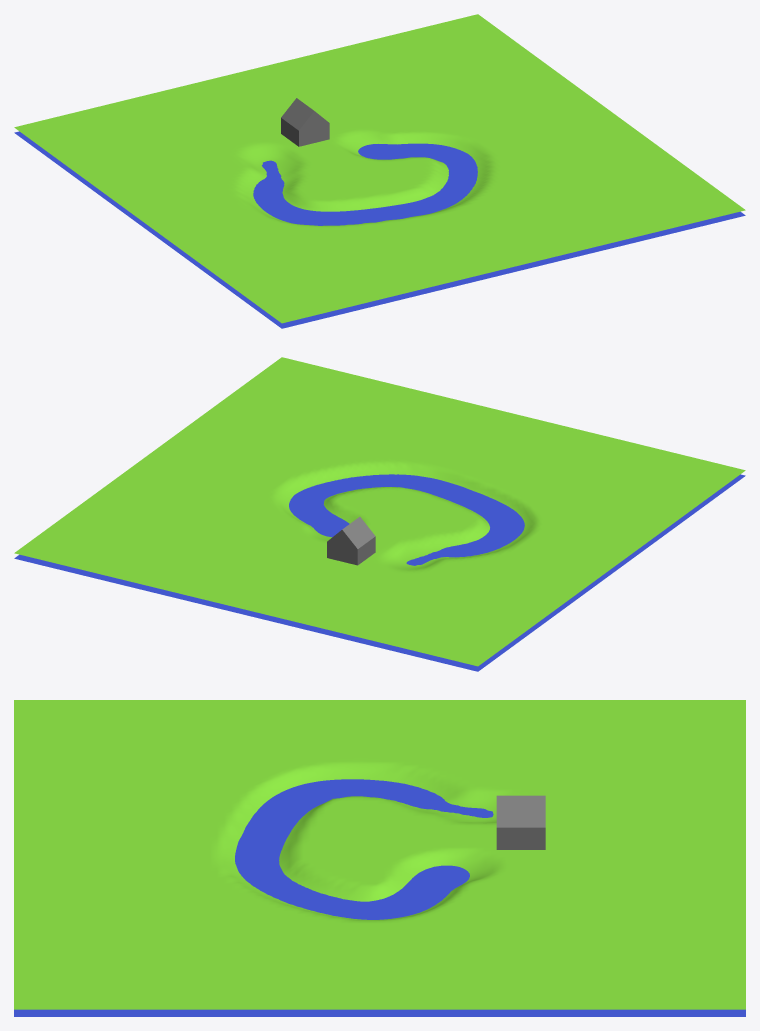
The model's file is spawntile.glb.
3 renders of one model, top to bottom at view 1: azimuth 30°, elevation 25°; view 2: azimuth 150°, elevation 25°; view 3: azimuth 270°, elevation 25°, orthographic. The views are drawn at different scales.
Parts seen in each view (by area): view 1: Plane, Plane.001, Cube; view 2: Plane, Plane.001, Cube; view 3: Plane, Plane.001, Cube.
Boxes of the visible parts, x1=… form: Plane: x1=14, y1=14, x2=745, y2=323; Plane.001: x1=14, y1=131, x2=745, y2=328; Cube: x1=281, y1=98, x2=329, y2=146; Plane: x1=14, y1=357, x2=745, y2=666; Plane.001: x1=14, y1=474, x2=745, y2=671; Cube: x1=327, y1=517, x2=375, y2=565; Plane: x1=14, y1=700, x2=745, y2=1009; Plane.001: x1=14, y1=779, x2=745, y2=1016; Cube: x1=496, y1=795, x2=545, y2=849.
Bounding box in the file's own units: 150 × 14.93 × 150.
